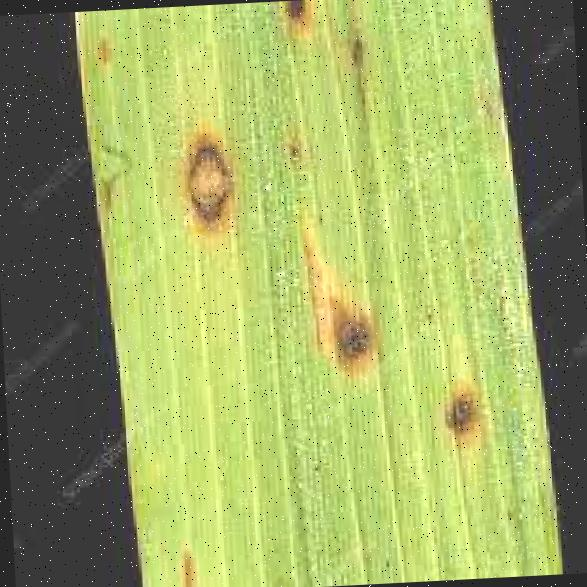Brown_Spot: (288, 235, 390, 380), (166, 104, 253, 234), (406, 348, 514, 448), (156, 535, 202, 587), (80, 19, 120, 70), (272, 0, 311, 29)
